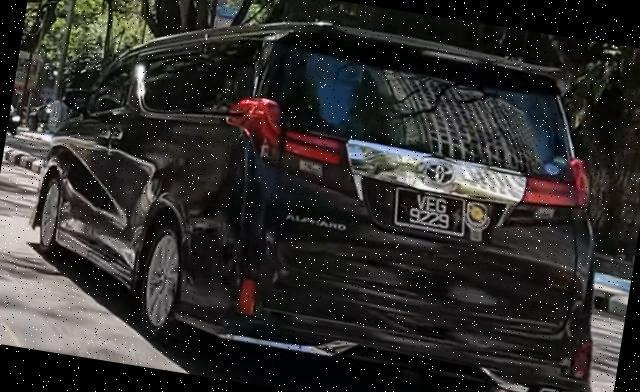License_Plate: (389, 185, 471, 238)
car: (12, 1, 640, 392)
